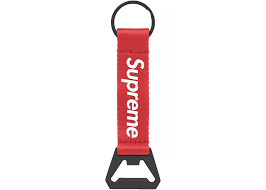bottleopener: (104, 1, 162, 190)
